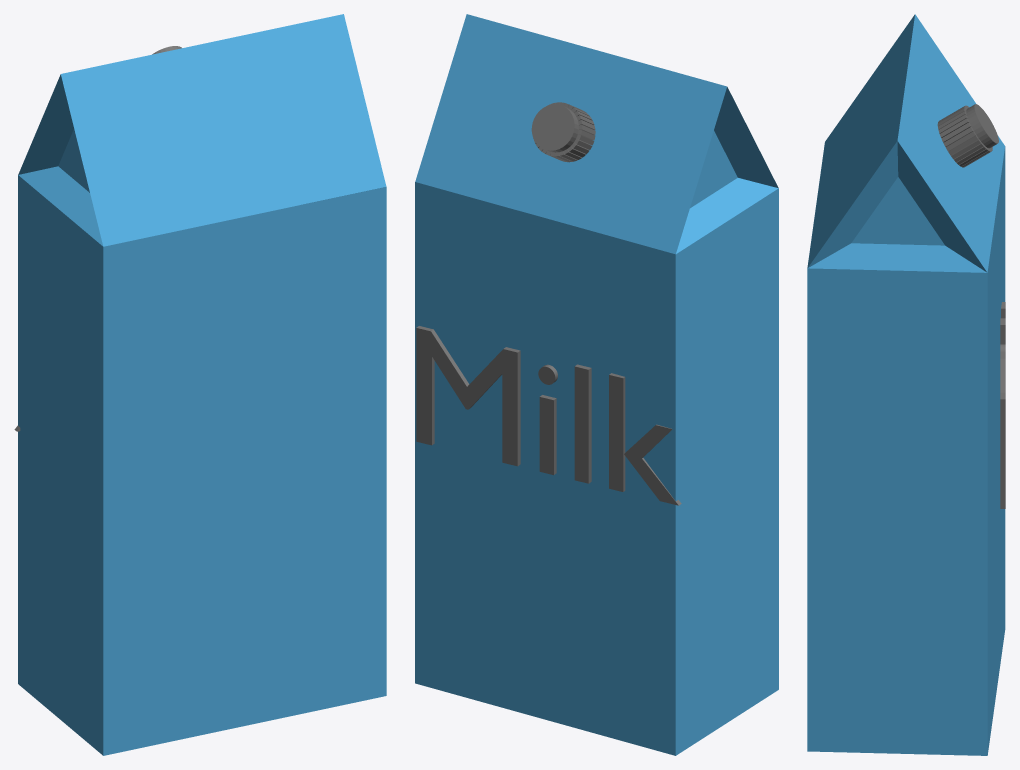
File: Milk.fbx
3 views of the same model, side by side, from view 1: azimuth 30°, elevation 25°; view 2: azimuth 150°, elevation 25°; view 3: azimuth 270°, elevation 25° (orthographic). The views are drawn at different scales.
Parts seen in each view (by area): view 1: Cylinder.007; view 2: Cylinder.007; view 3: Cylinder.007.
Boxes of the visible parts, box(x1,y1,x2,y2) form: Cylinder.007: box(14, 14, 386, 755); Cylinder.007: box(415, 14, 778, 755); Cylinder.007: box(807, 14, 1005, 755).
Bounding box in the file's own units: 0.0909 × 0.198 × 0.0581.
